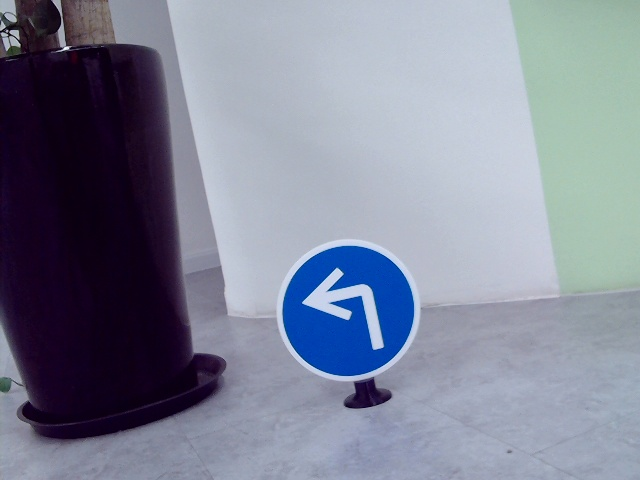turn_left: (303, 265, 390, 352)
